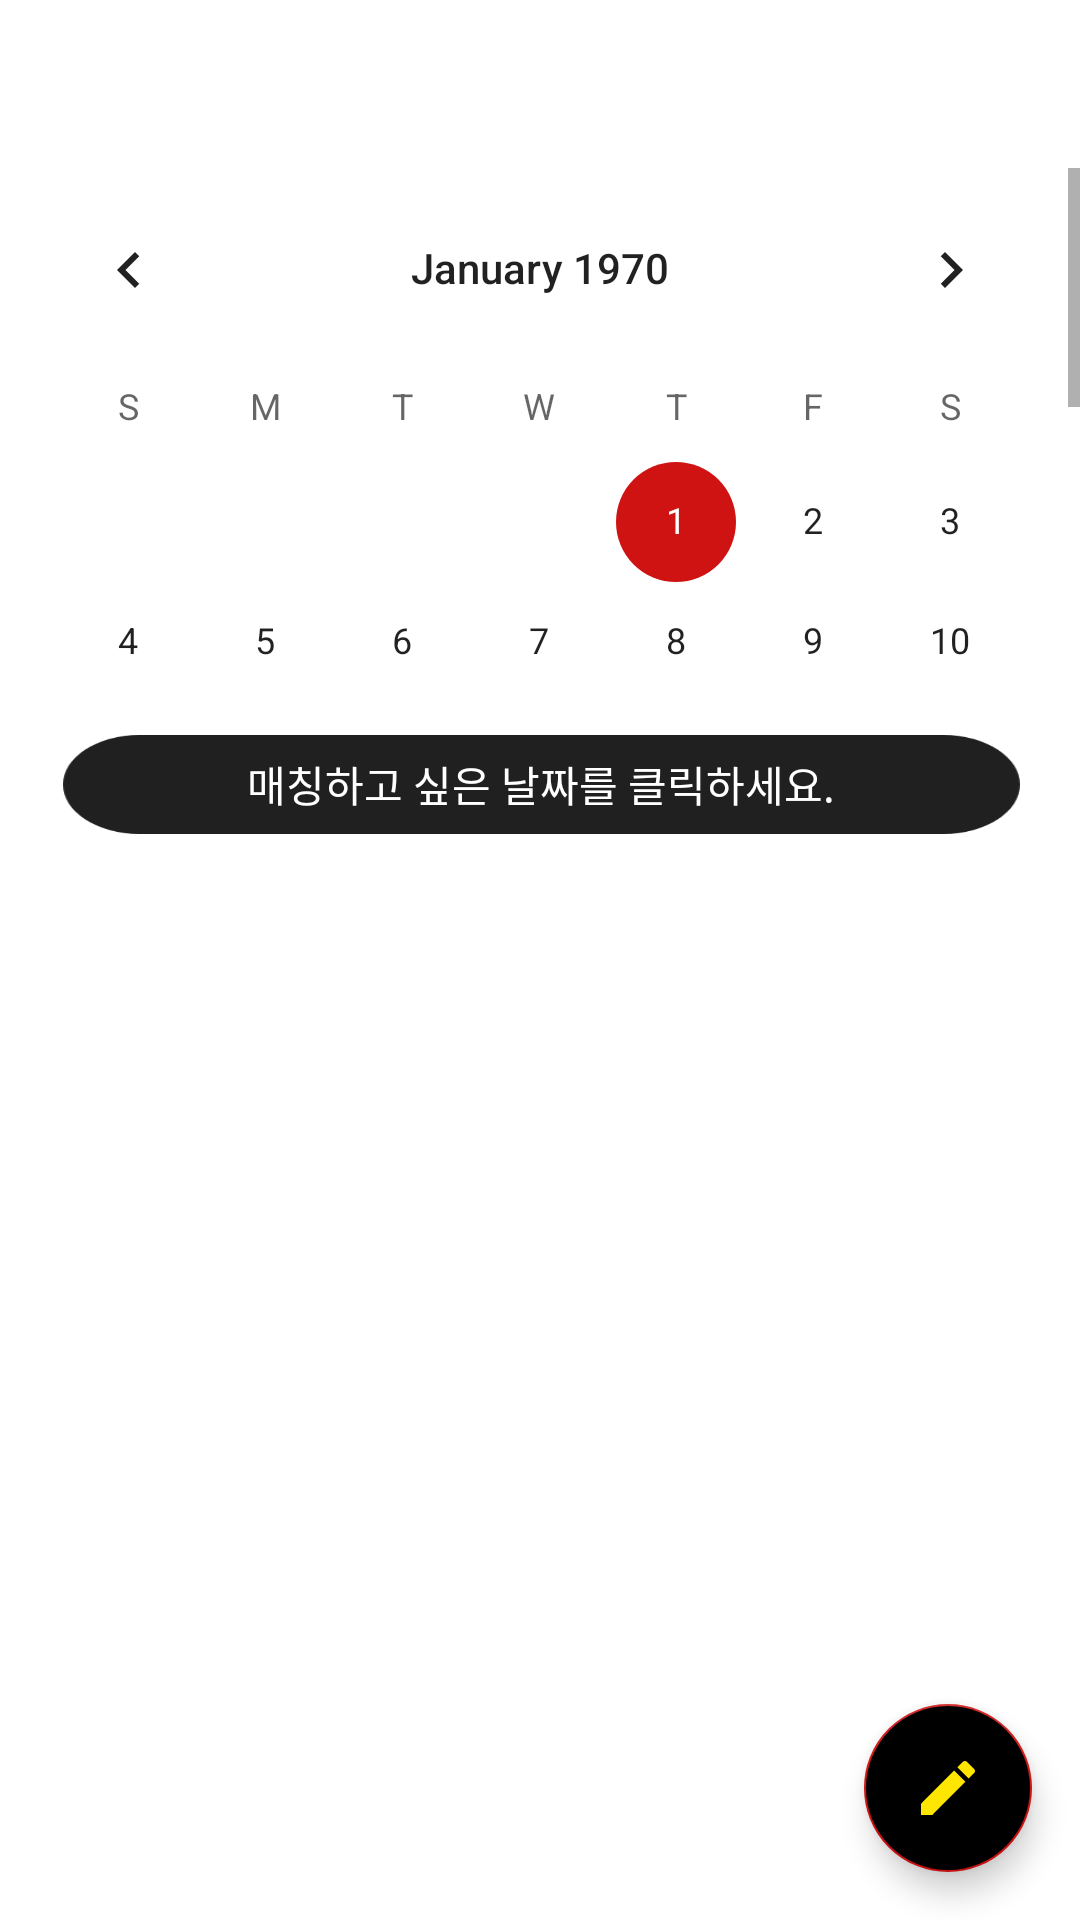

Icon bounding boxes for this 1080 × 1920 phone screenshot, format (x1, y1, x2, y2):
post made: (864, 1704, 1032, 1872)
